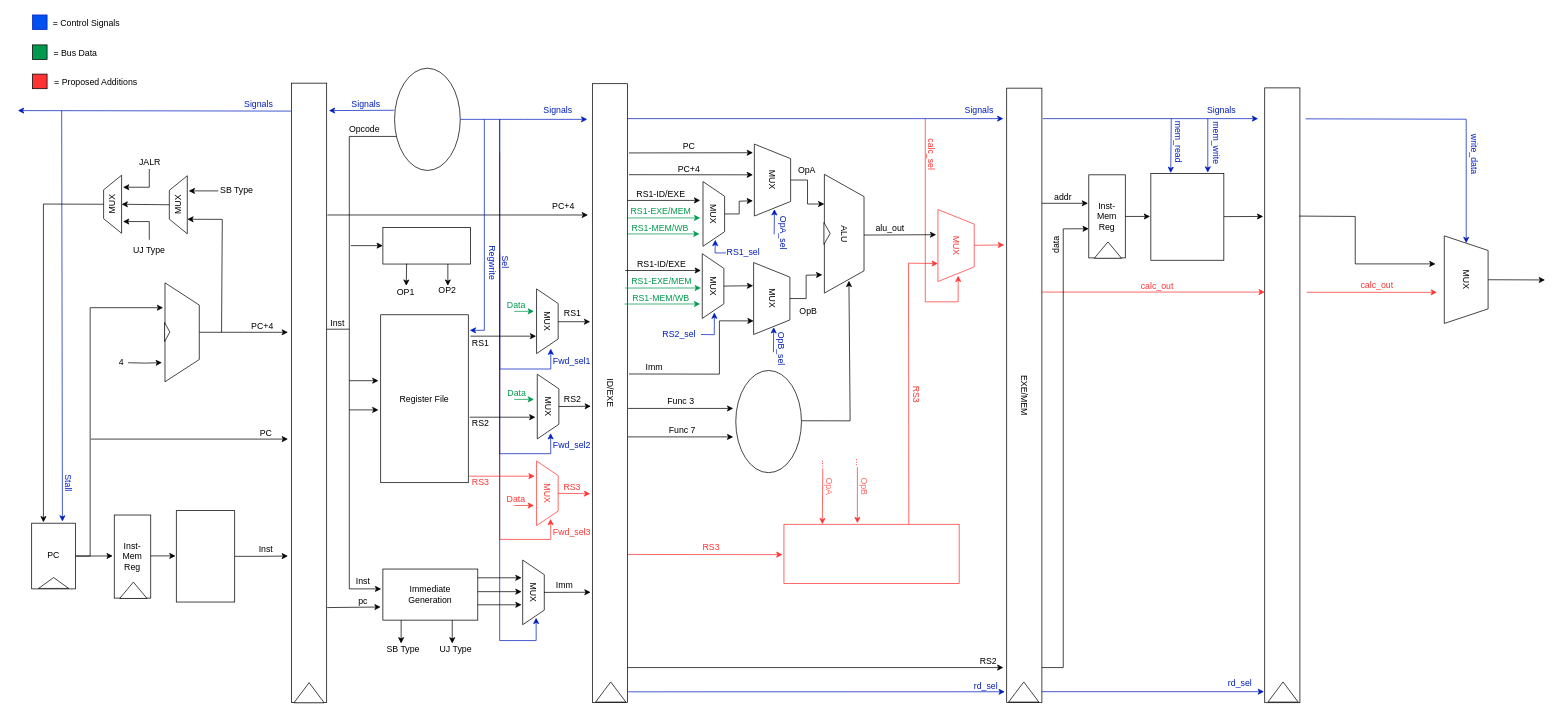
This 1564x715 diagram has some shape labels left out. Here are the shapes that lost their labels. From the top down, the centre of each, then its label:
At [427,119]: "Control Unit".
At [1187,216]: "Data Memory".
At [426,245]: "Branch Unit".
At [181,332]: "Adder".
At [309,392]: "IF/ID".
At [1282,395]: "MEM/WB".
At [768,421]: "ALU Control".
At [205,556]: "Instruction Memory".
At [871,553]: "Multiply-Accumulate Unit (32 x 32 -> 64)".
